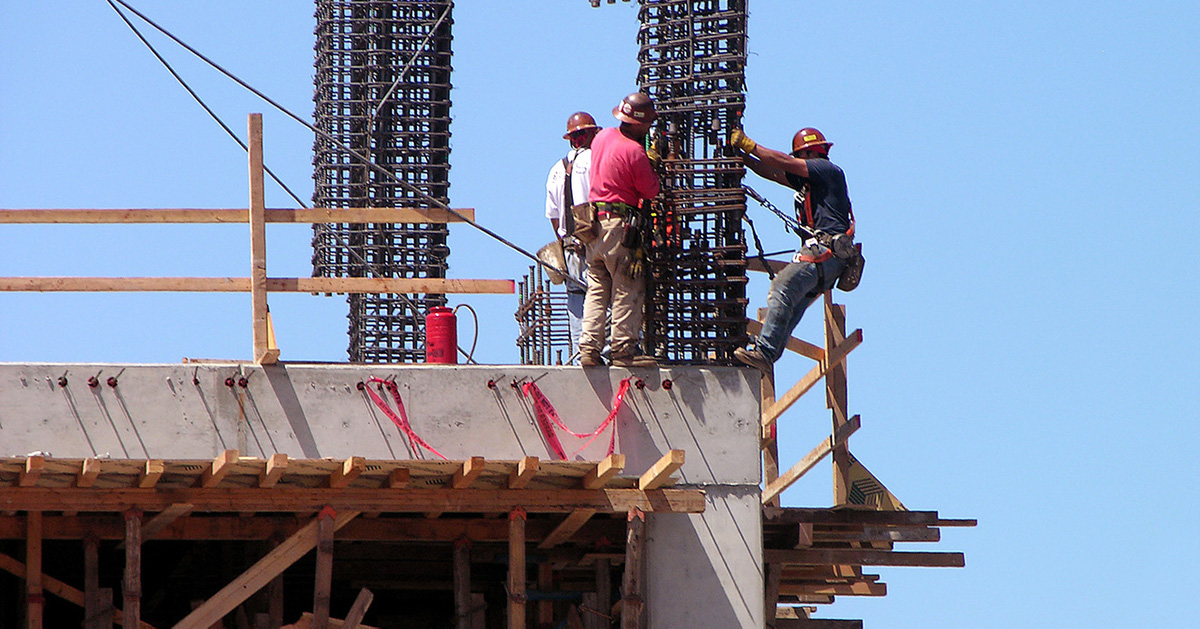epi: (732, 121, 861, 362), (593, 92, 665, 364), (543, 107, 612, 369)
